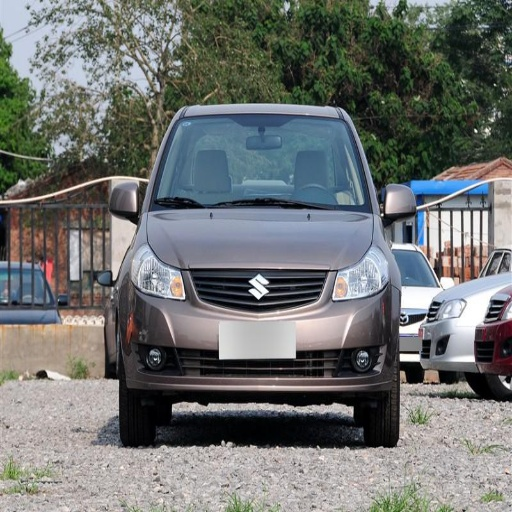front_bumper: (120, 269, 398, 405), (434, 302, 504, 371)
front_right_light: (132, 250, 187, 299)
hood: (145, 209, 373, 270)
left_mirror: (382, 185, 418, 222)
